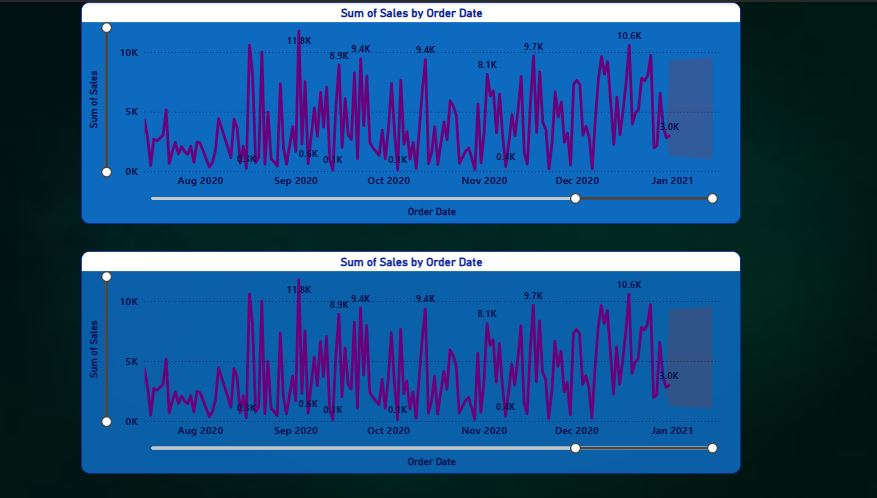

Layout of this report page (visuals, bound fields, positions):
{"tool":"powerbi","page":{"name":"Forecasting ","canvas":[1280,720],"ordinal":1},"visuals":[{"type":"lineChart","fields":{"Y":["Sum(Sheet1.Sales)"],"Category":["Sheet1.Order Date"]},"box":[120,0,954.2,321],"z":0},{"type":"lineChart","fields":{"Y":["Sum(Sheet1.Sales)"],"Category":["Sheet1.Order Date"]},"box":[120.5,360,953.6,321.8],"z":1000}]}

Visuals, with their boxes in screenshot pixels (x1, y1, x2, y2), scaled from the page's 1280x720 canvas onto the 877x498 screenshot:
lineChart - Sum(Sheet1.Sales) x Sheet1.Order Date: l=82, t=0, r=736, b=222
lineChart - Sum(Sheet1.Sales) x Sheet1.Order Date: l=83, t=249, r=736, b=472
